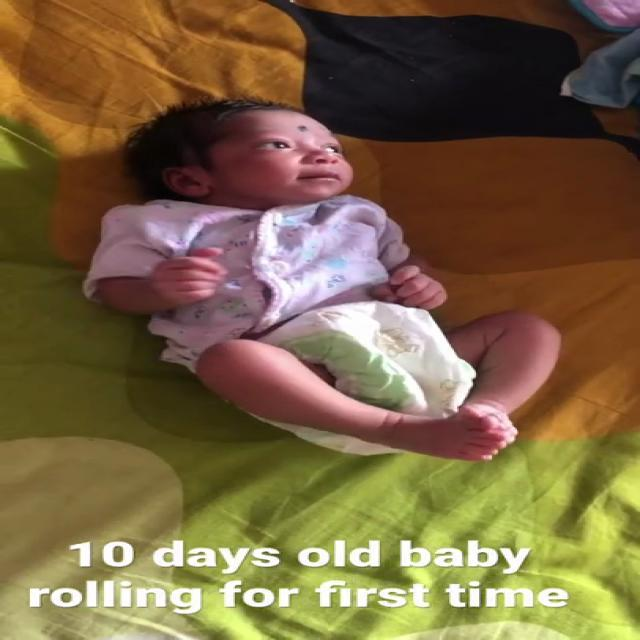baby: (80, 97, 598, 470)
